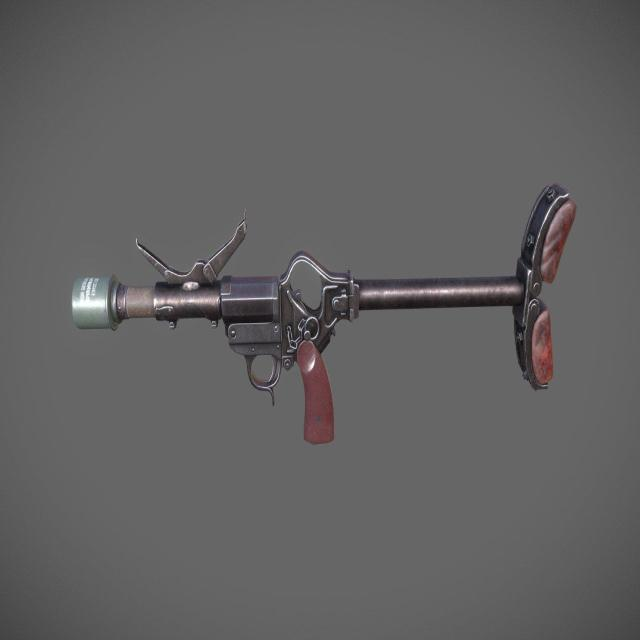weapon: (60, 170, 586, 448)
